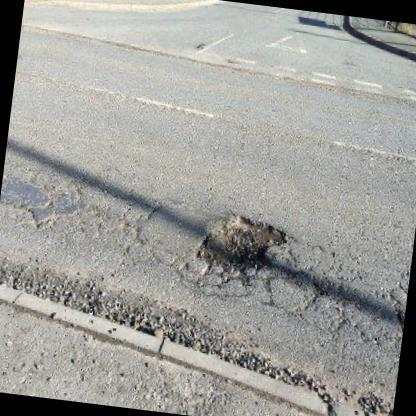pothole: (194, 214, 287, 286)
